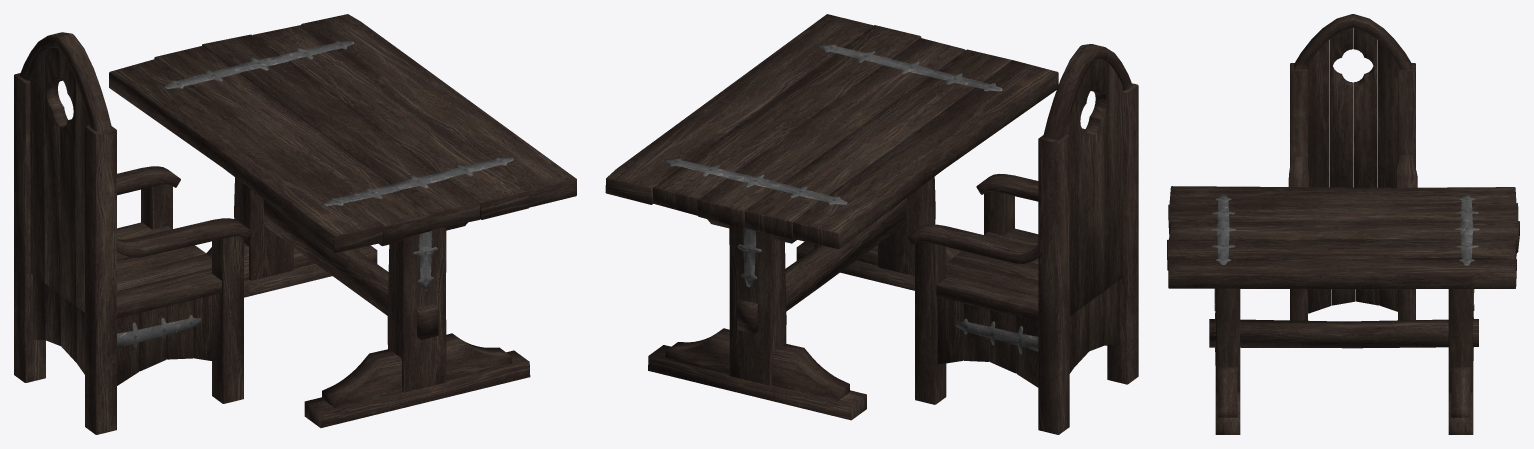
File: wooden_table_and_chair.glb
3 renders of one model, left to right at view 1: azimuth 30°, elevation 25°; view 2: azimuth 150°, elevation 25°; view 3: azimuth 270°, elevation 25°, orthographic. The views are drawn at different scales.
Visible parts, largest first — view 1: Table_U4, Chair_U4; view 2: Table_U4, Chair_U4; view 3: Table_U4, Chair_U4.
Boxes of the visible parts, x1,y1,x2,y2 form: Table_U4: (109,14,576,427); Chair_U4: (14,32,251,434); Table_U4: (605,14,1058,420); Chair_U4: (907,44,1138,434); Table_U4: (1167,186,1519,434); Chair_U4: (1288,14,1417,320).
Size of the model in its own units: 148 by 129 by 148.
Materials: 2 (2 with a texture image).
